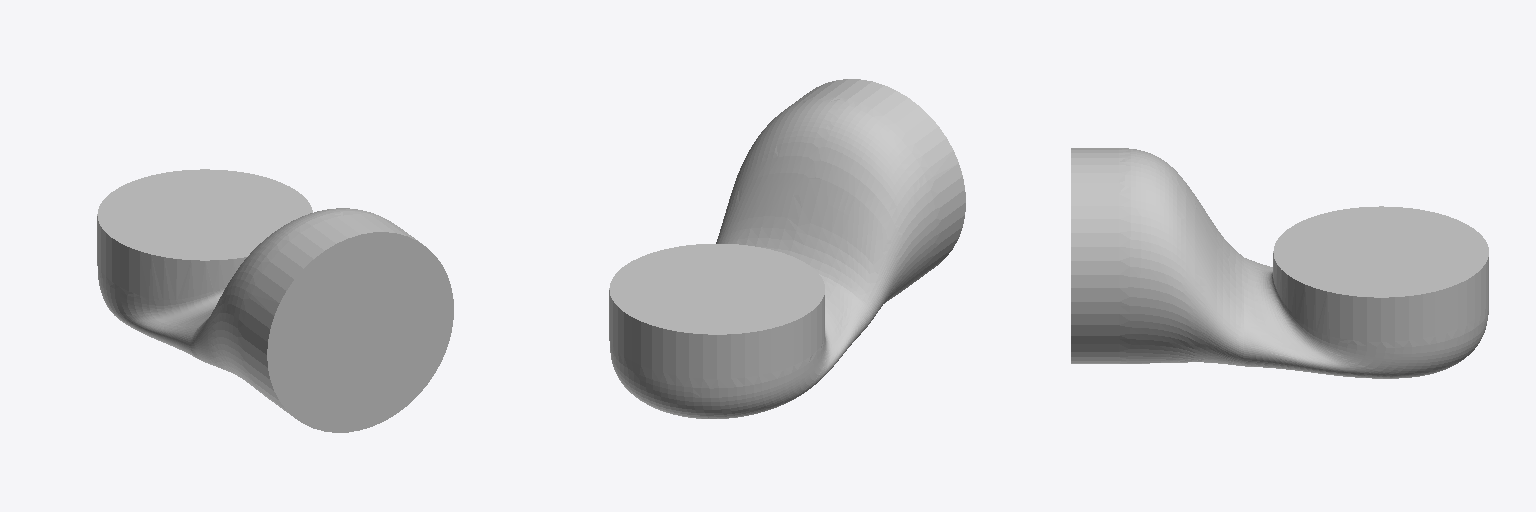
The model's file is processed_shoulder.obj.
3 renders of one model, left to right at view 1: azimuth 30°, elevation 25°; view 2: azimuth 150°, elevation 25°; view 3: azimuth 270°, elevation 25°, orthographic.
Parts seen in each view (by area): view 1: shoulder; view 2: shoulder; view 3: shoulder.
Part boxes in pixels (bbox=[...]): shoulder: bbox=[97, 169, 453, 432]; shoulder: bbox=[609, 79, 965, 418]; shoulder: bbox=[1071, 148, 1488, 378].
Bounding box in the file's own units: 0.0825 × 0.0826 × 0.1599.